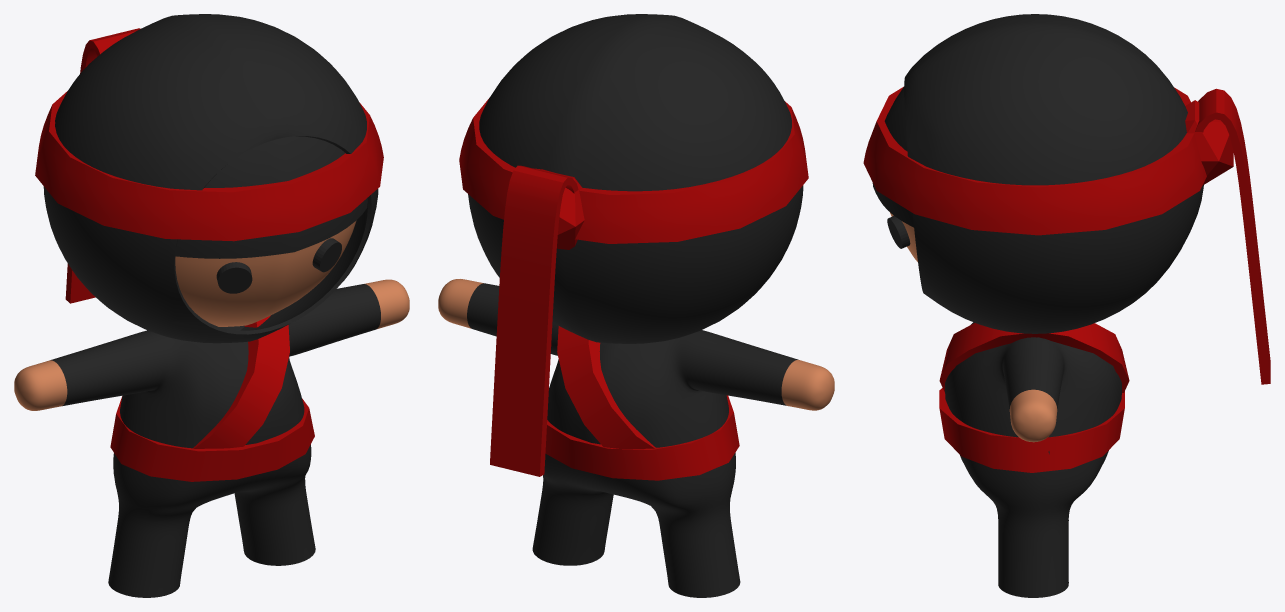
Rendered from StickMan-Costume-Ninja.fbx.
3 views of the same model, side by side, from view 1: azimuth 30°, elevation 25°; view 2: azimuth 150°, elevation 25°; view 3: azimuth 270°, elevation 25° (orthographic). The views are drawn at different scales.
Visible parts, largest first — view 1: Character, Scarf, Vest; view 2: Character, Scarf, Vest; view 3: Character, Scarf, Vest.
Boxes of the visible parts, bbox=[...] form: Character: bbox=[14, 14, 409, 597]; Scarf: bbox=[35, 28, 383, 303]; Vest: bbox=[110, 315, 314, 481]; Character: bbox=[438, 14, 834, 597]; Scarf: bbox=[459, 99, 808, 476]; Vest: bbox=[545, 326, 739, 480]; Character: bbox=[872, 14, 1203, 597]; Scarf: bbox=[863, 87, 1270, 384]; Vest: bbox=[939, 323, 1129, 472].
Bounding box in the file's own units: 84 × 112 × 78.41.
